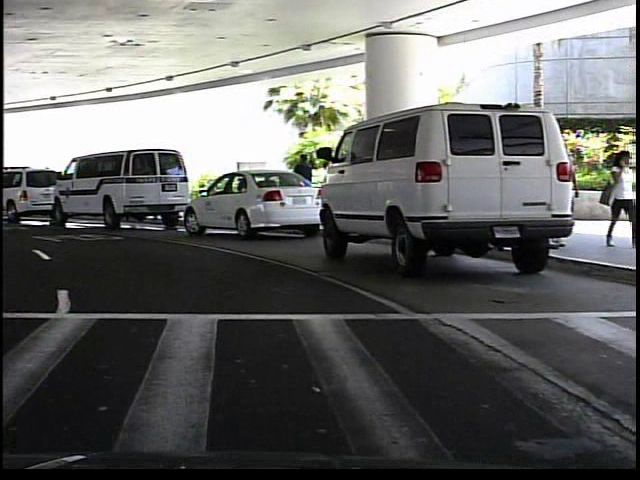person: (595, 146, 638, 248), (288, 149, 318, 220)
